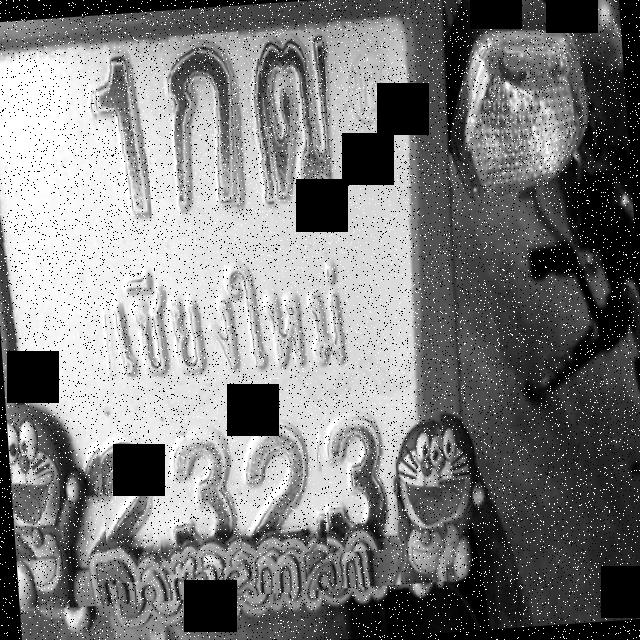letters: (152, 418, 252, 575), (168, 30, 251, 218), (233, 408, 327, 557), (255, 28, 332, 206), (317, 403, 403, 553), (89, 50, 152, 229), (98, 422, 163, 584)
license-plate: (0, 0, 429, 602)
province: (98, 240, 360, 390)
